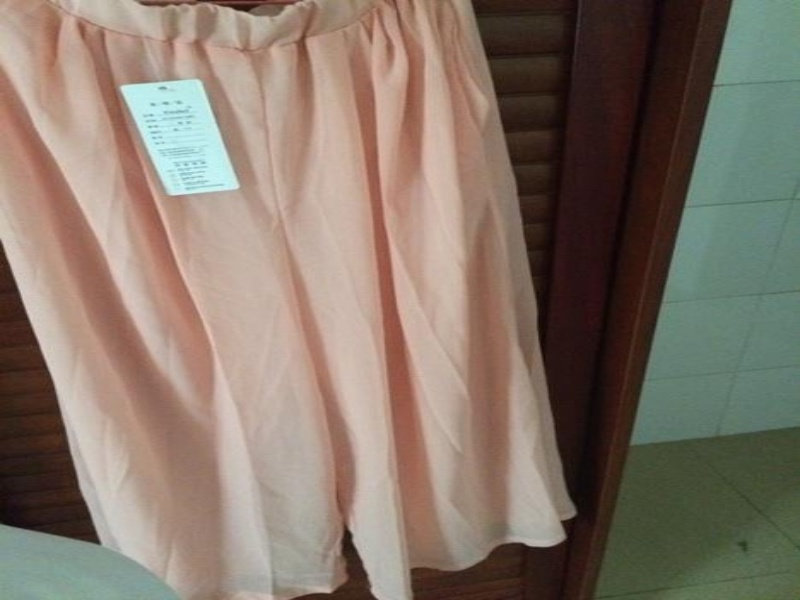trousers: (2, 1, 588, 599)
